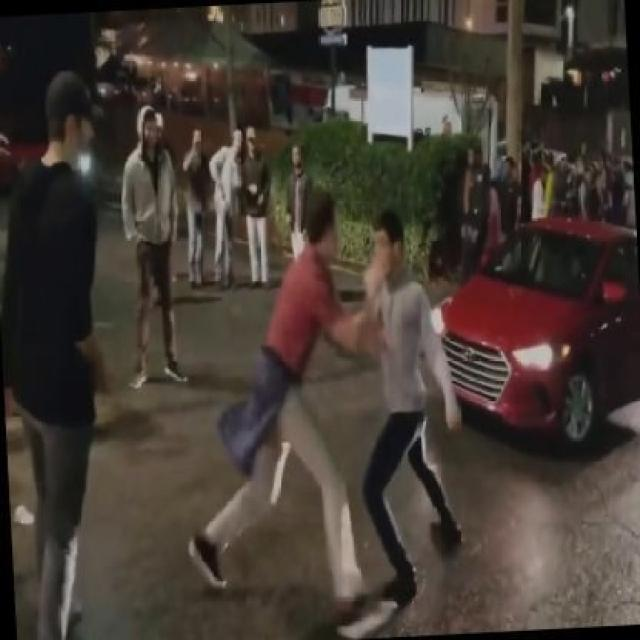fight: (184, 192, 463, 638)
non-fight: (3, 72, 112, 634), (124, 105, 192, 392), (208, 130, 246, 288), (178, 127, 213, 290), (237, 130, 271, 288), (285, 146, 313, 267)
